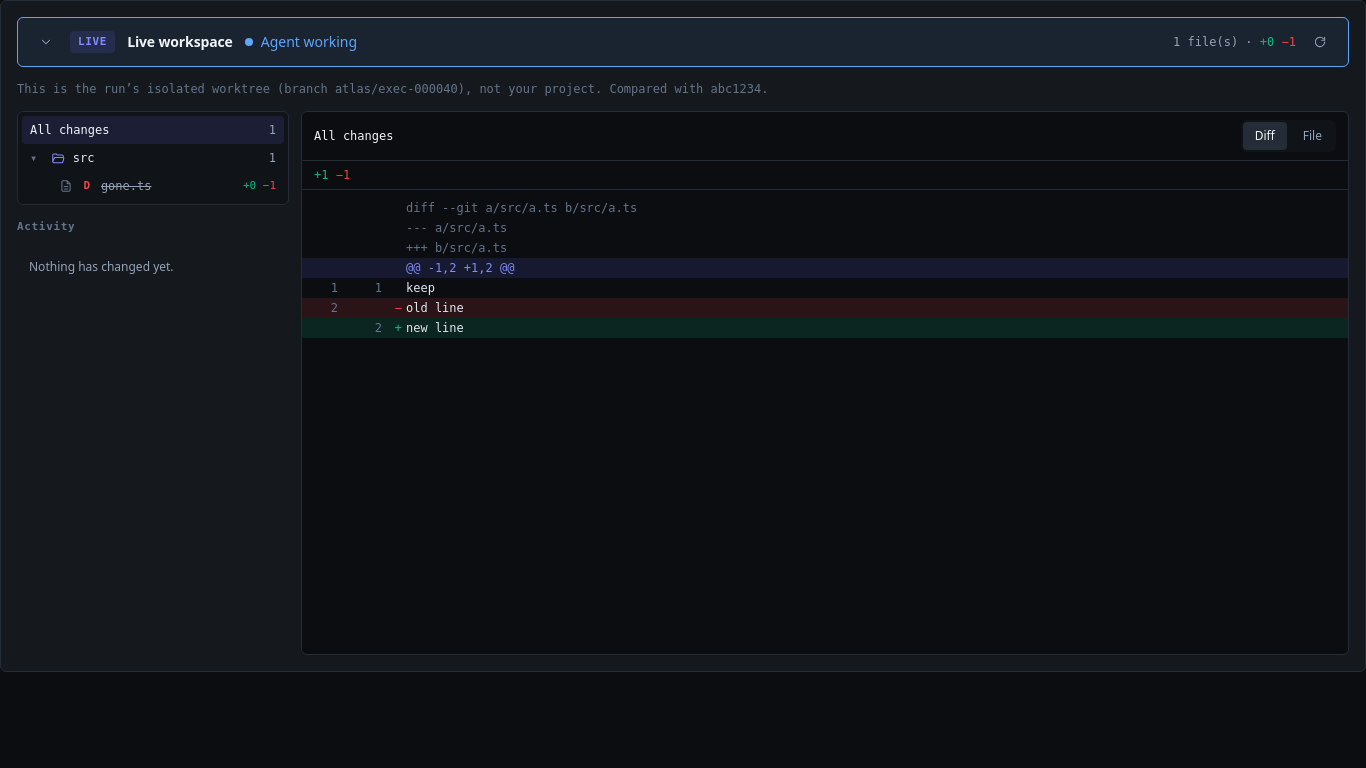
Test: the live workspace: the viewer › does not read a deleted file: it says it was removed and keeps its diff
Click the button with aria-label "src/gone.ts (Removed)": (153,186) [22,172,284,200]
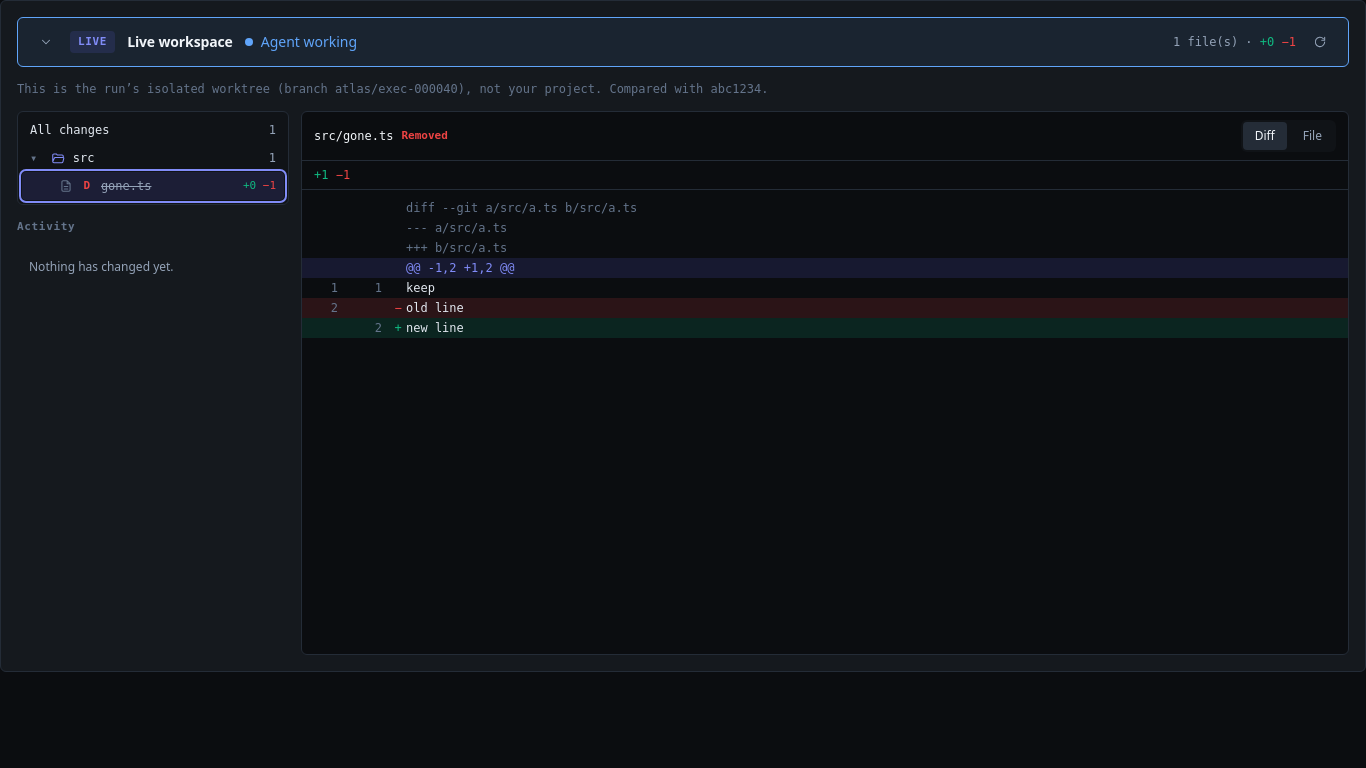
Click the tab "File": (1312,136) [1291,122,1334,150]
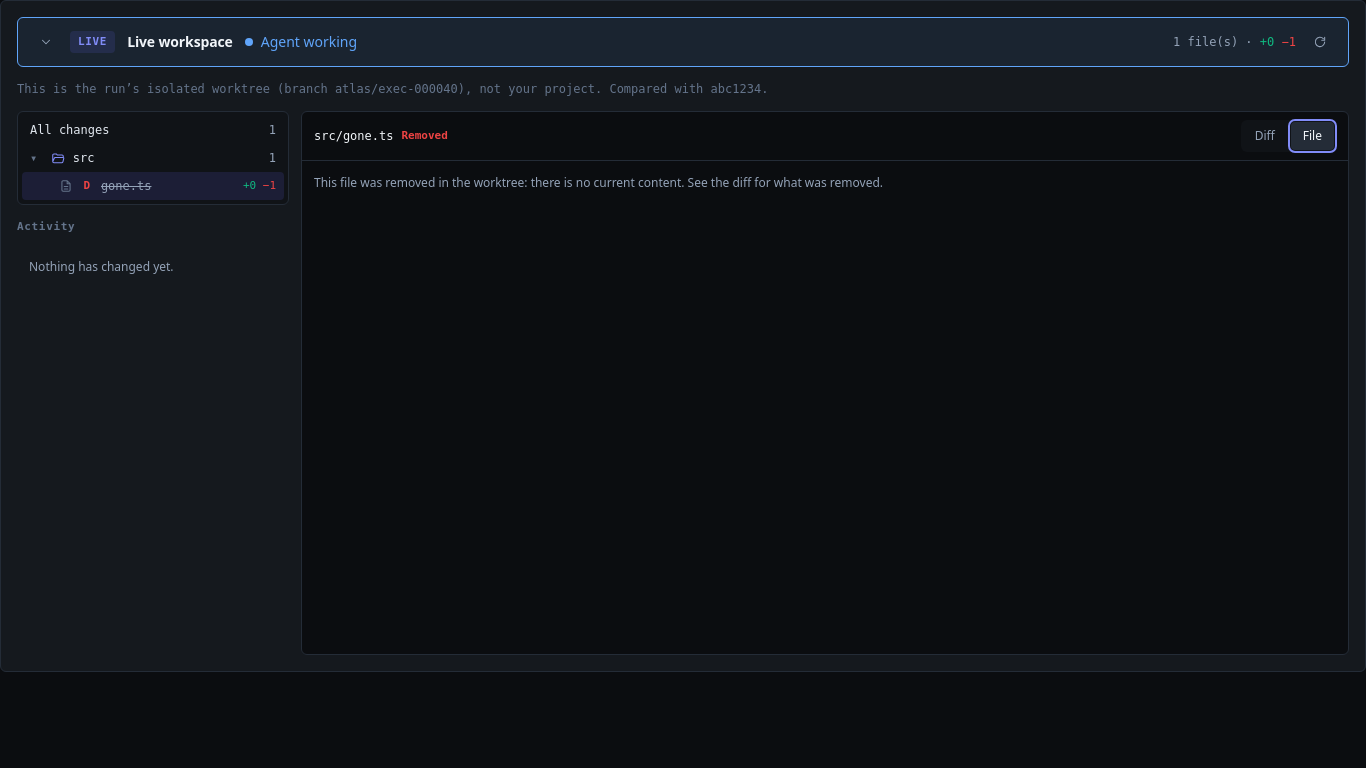
Expected: the text "This file was removed in the worktree" is shown, [314,174,883,191]
Click the tab "Diff": (1265,136) [1243,122,1287,150]
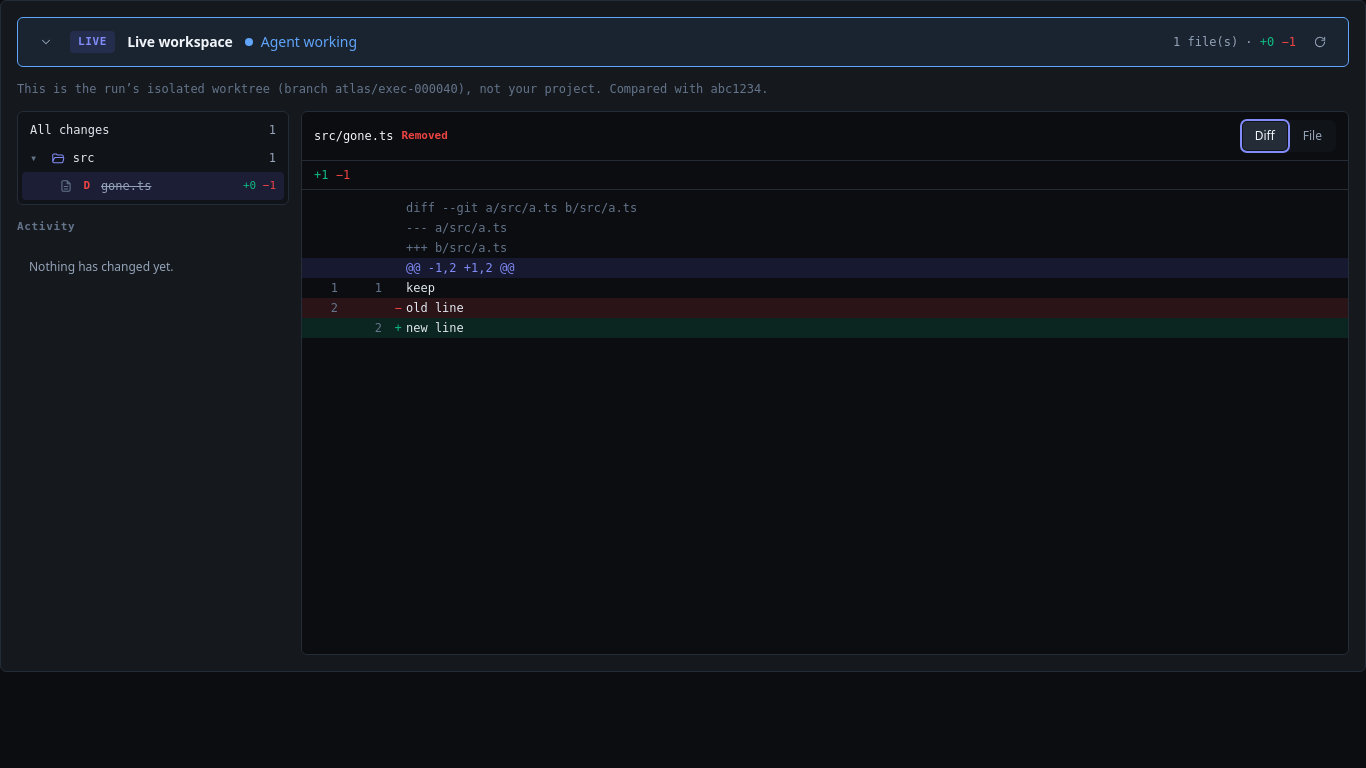
Expected: the element named "Diff against the baseline" is shown, [302,190,1348,346]
